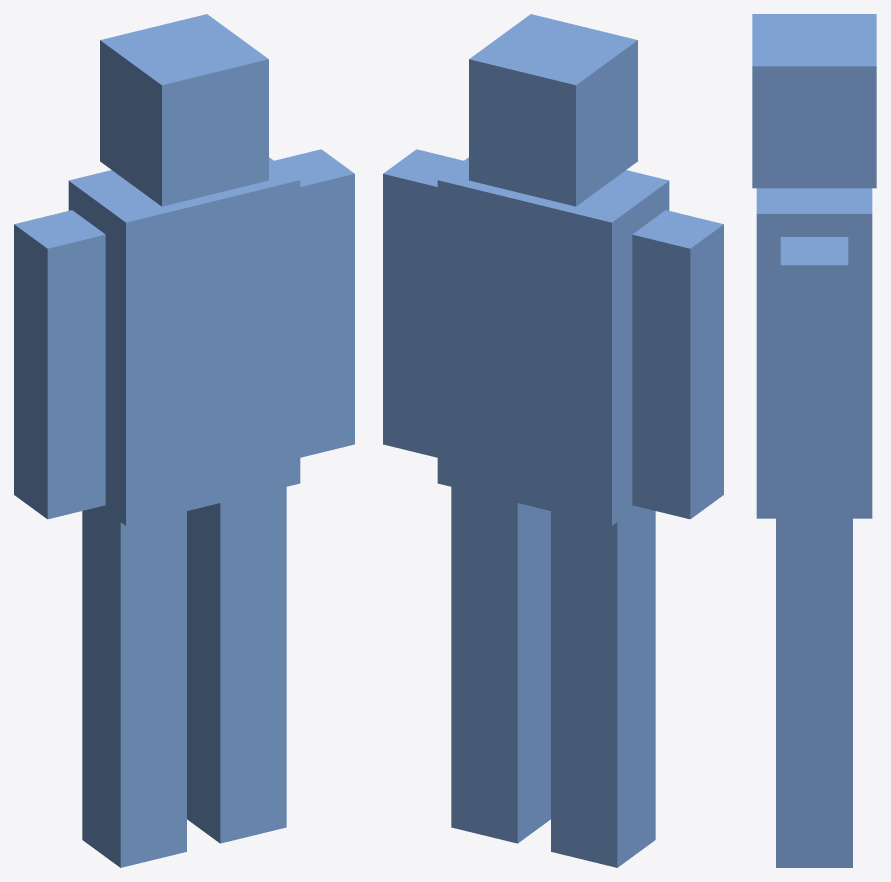
Rendered from archmage.glb.
The picture shows the model from 3 angles, left to right: view 1: azimuth 30°, elevation 25°; view 2: azimuth 150°, elevation 25°; view 3: azimuth 270°, elevation 25°; orthographic projection.
Parts seen in each view (by area): view 1: archmage; view 2: archmage; view 3: archmage.
Part boxes in pixels (x1,y1,x2,y2): archmage: [14, 14, 354, 867]; archmage: [383, 14, 723, 867]; archmage: [752, 14, 876, 867].
Bounding box in the file's own units: 0.703 × 1.71 × 0.2448.
